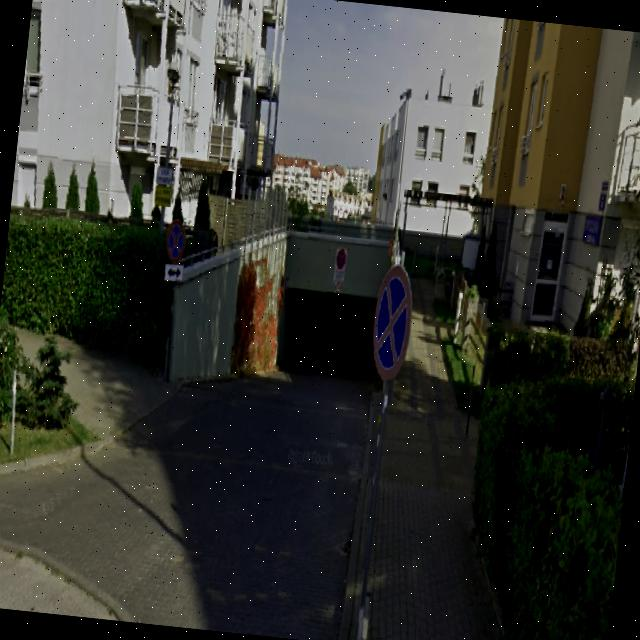Zakaz zatrzymywania sie: (367, 262, 415, 382), (164, 218, 186, 262)
